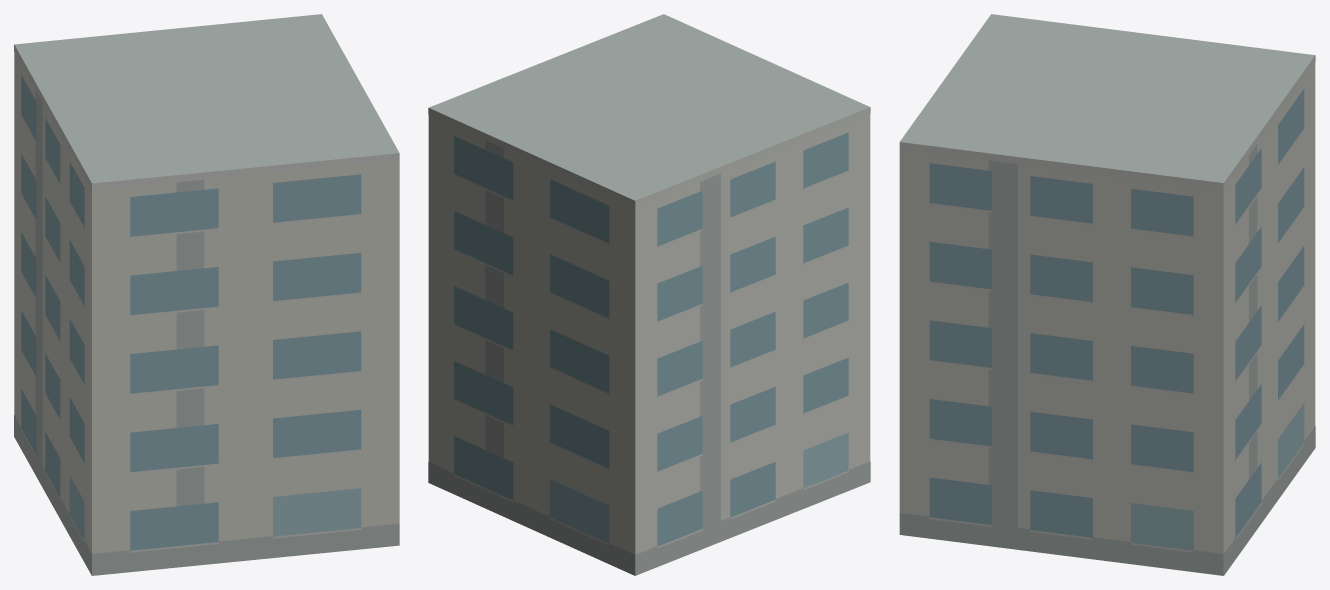
Rendered from survey-upis-32874177.glb.
The picture shows the model from 3 angles, left to right: view 1: azimuth 30°, elevation 25°; view 2: azimuth 150°, elevation 25°; view 3: azimuth 270°, elevation 25°; orthographic projection. The views are drawn at different scales.
Parts seen in each view (by area): view 1: survey-upis-32874177.tmp; view 2: survey-upis-32874177.tmp; view 3: survey-upis-32874177.tmp.
Boxes of the visible parts, box(x1,y1,x2,y2) form: survey-upis-32874177.tmp: box(14, 14, 399, 575); survey-upis-32874177.tmp: box(428, 14, 870, 575); survey-upis-32874177.tmp: box(899, 14, 1315, 575).
Bounding box in the file's own units: 12.19 × 13.2 × 12.67.
